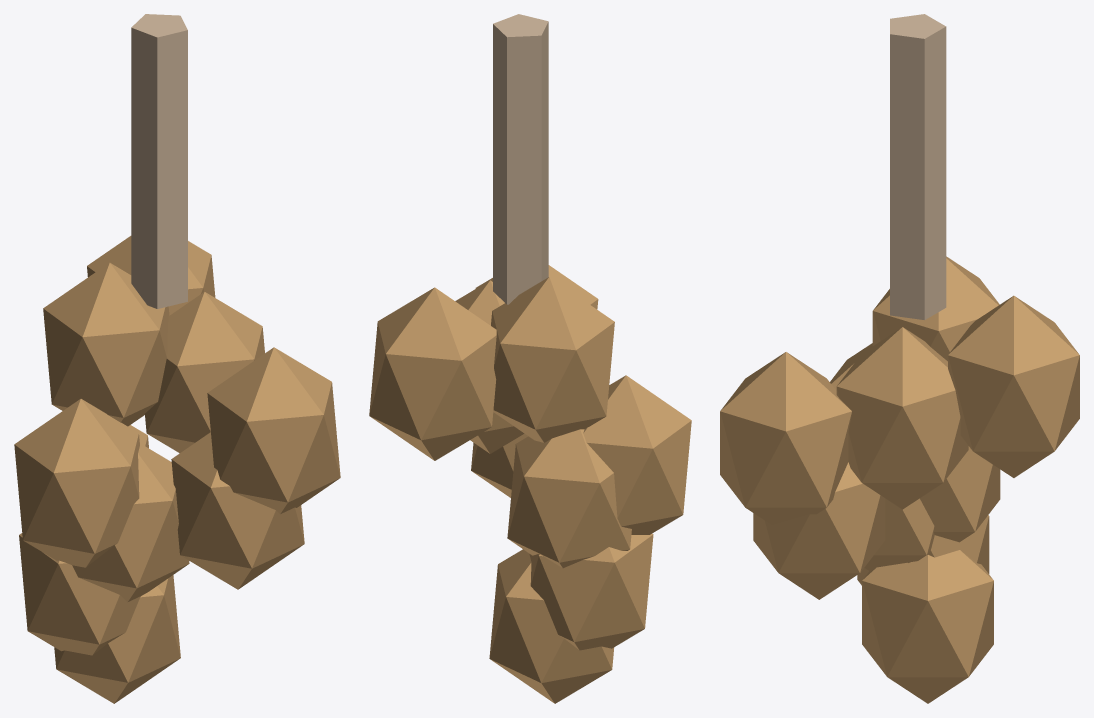
File: date_cluster.glb
3 renders of one model, left to right at view 1: azimuth 30°, elevation 25°; view 2: azimuth 150°, elevation 25°; view 3: azimuth 270°, elevation 25°, orthographic. The views are drawn at different scales.
Parts seen in each view (by area): view 1: date_cluster; view 2: date_cluster; view 3: date_cluster.
Boxes of the visible parts, left/top/right/bottom form: date_cluster: left=14, top=14, right=340, bottom=703; date_cluster: left=369, top=14, right=691, bottom=703; date_cluster: left=720, top=14, right=1079, bottom=703.
Bounding box in the file's own units: 0.2004 × 0.4961 × 0.2318.
